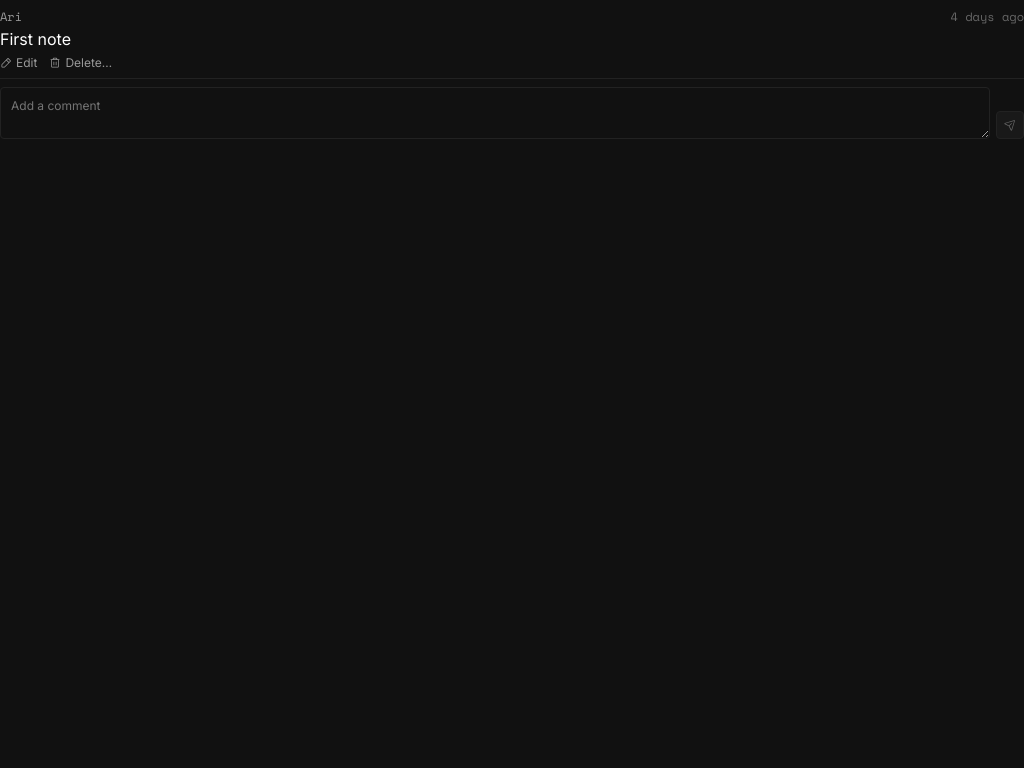
Test: tracker inspector comments section › deletes an own comment behind an explicit confirmation
Expected: the text "First note" is shown, [0,29,71,49]
Click the button with aria-label "Delete comment: First note". click: (81, 62)
box: [49,55,112,70]
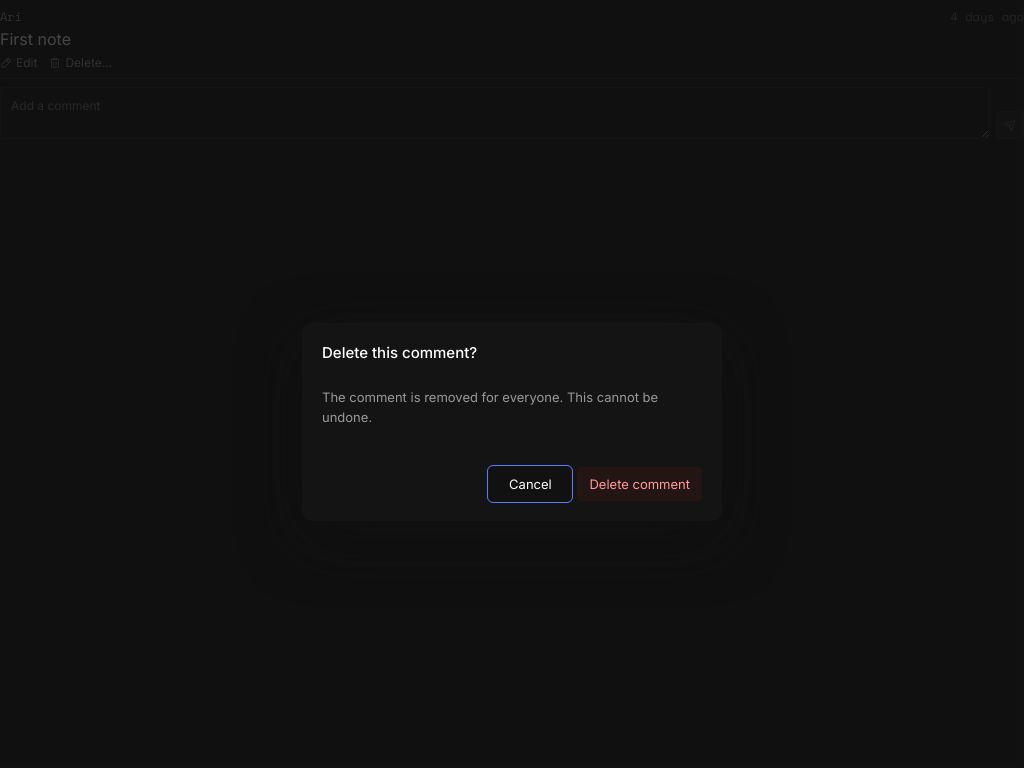
Expected: the heading "Delete this comment?" is shown, [322,343,477,362]
Click the button "Delete comment". click: (640, 484)
box: [577,467,702,501]
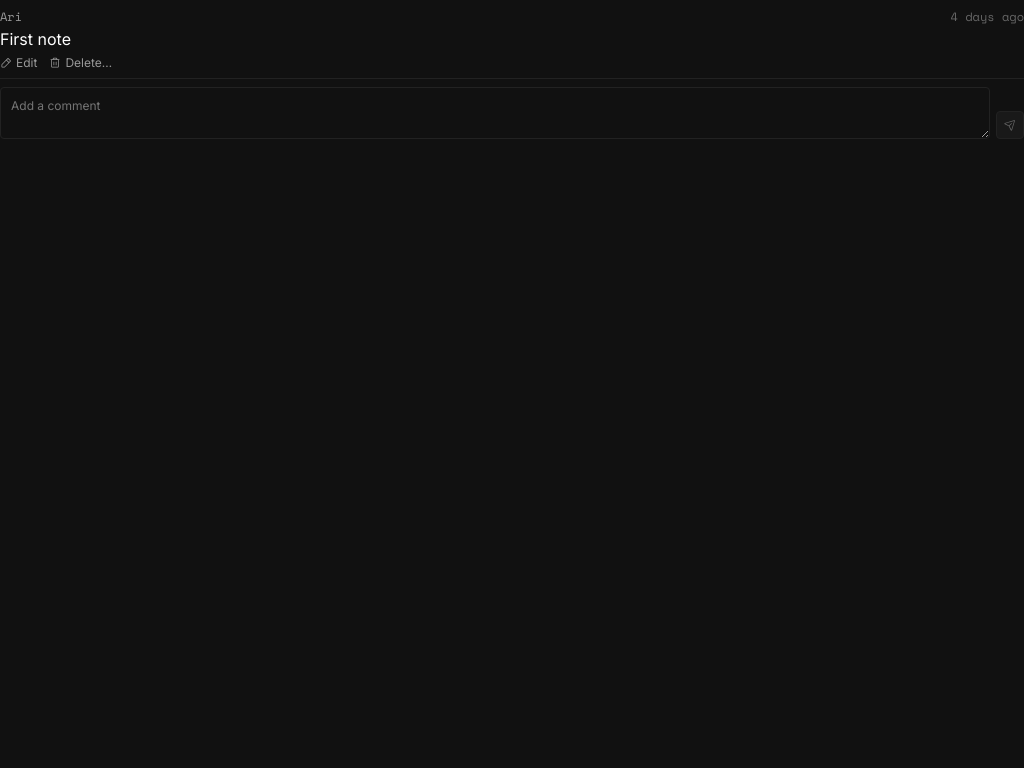
Expected: the heading "Delete this comment?" is gone
